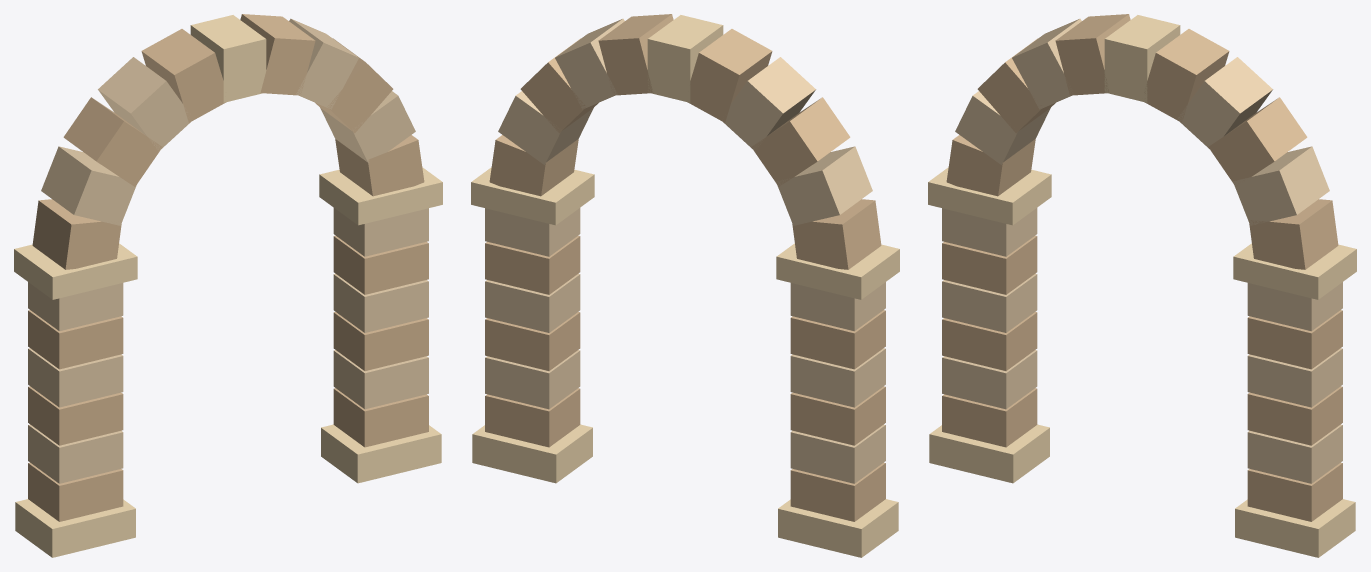
The model's file is lantern-quay-arch.glb.
3 renders of one model, left to right at view 1: azimuth 30°, elevation 25°; view 2: azimuth 150°, elevation 25°; view 3: azimuth 330°, elevation 25°, orthographic.
Size of the model in its own units: 3.96 by 4.51 by 0.68.
